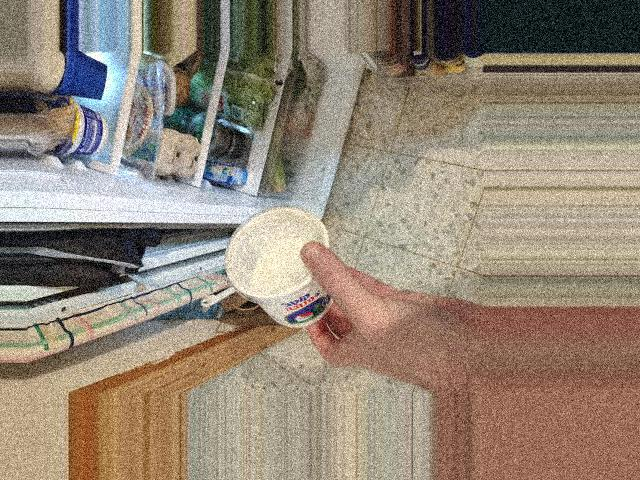cotage: (227, 219, 340, 332)
